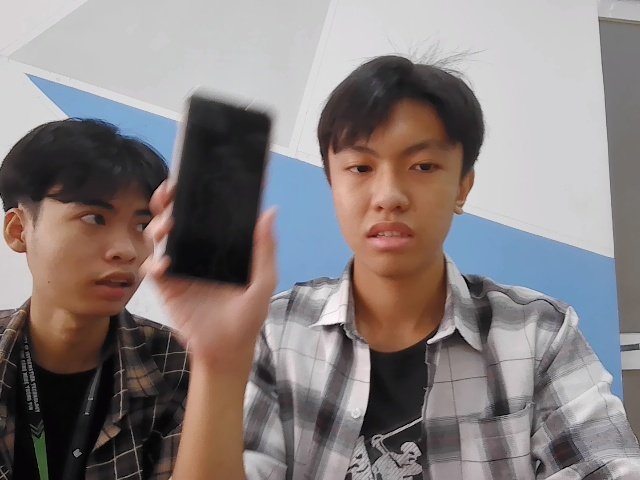human: (318, 48, 483, 276), (1, 119, 159, 326)
phone: (163, 80, 270, 286)
